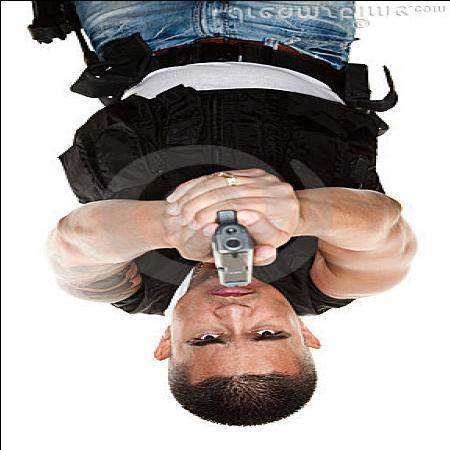Pistol: (208, 207, 255, 288)
